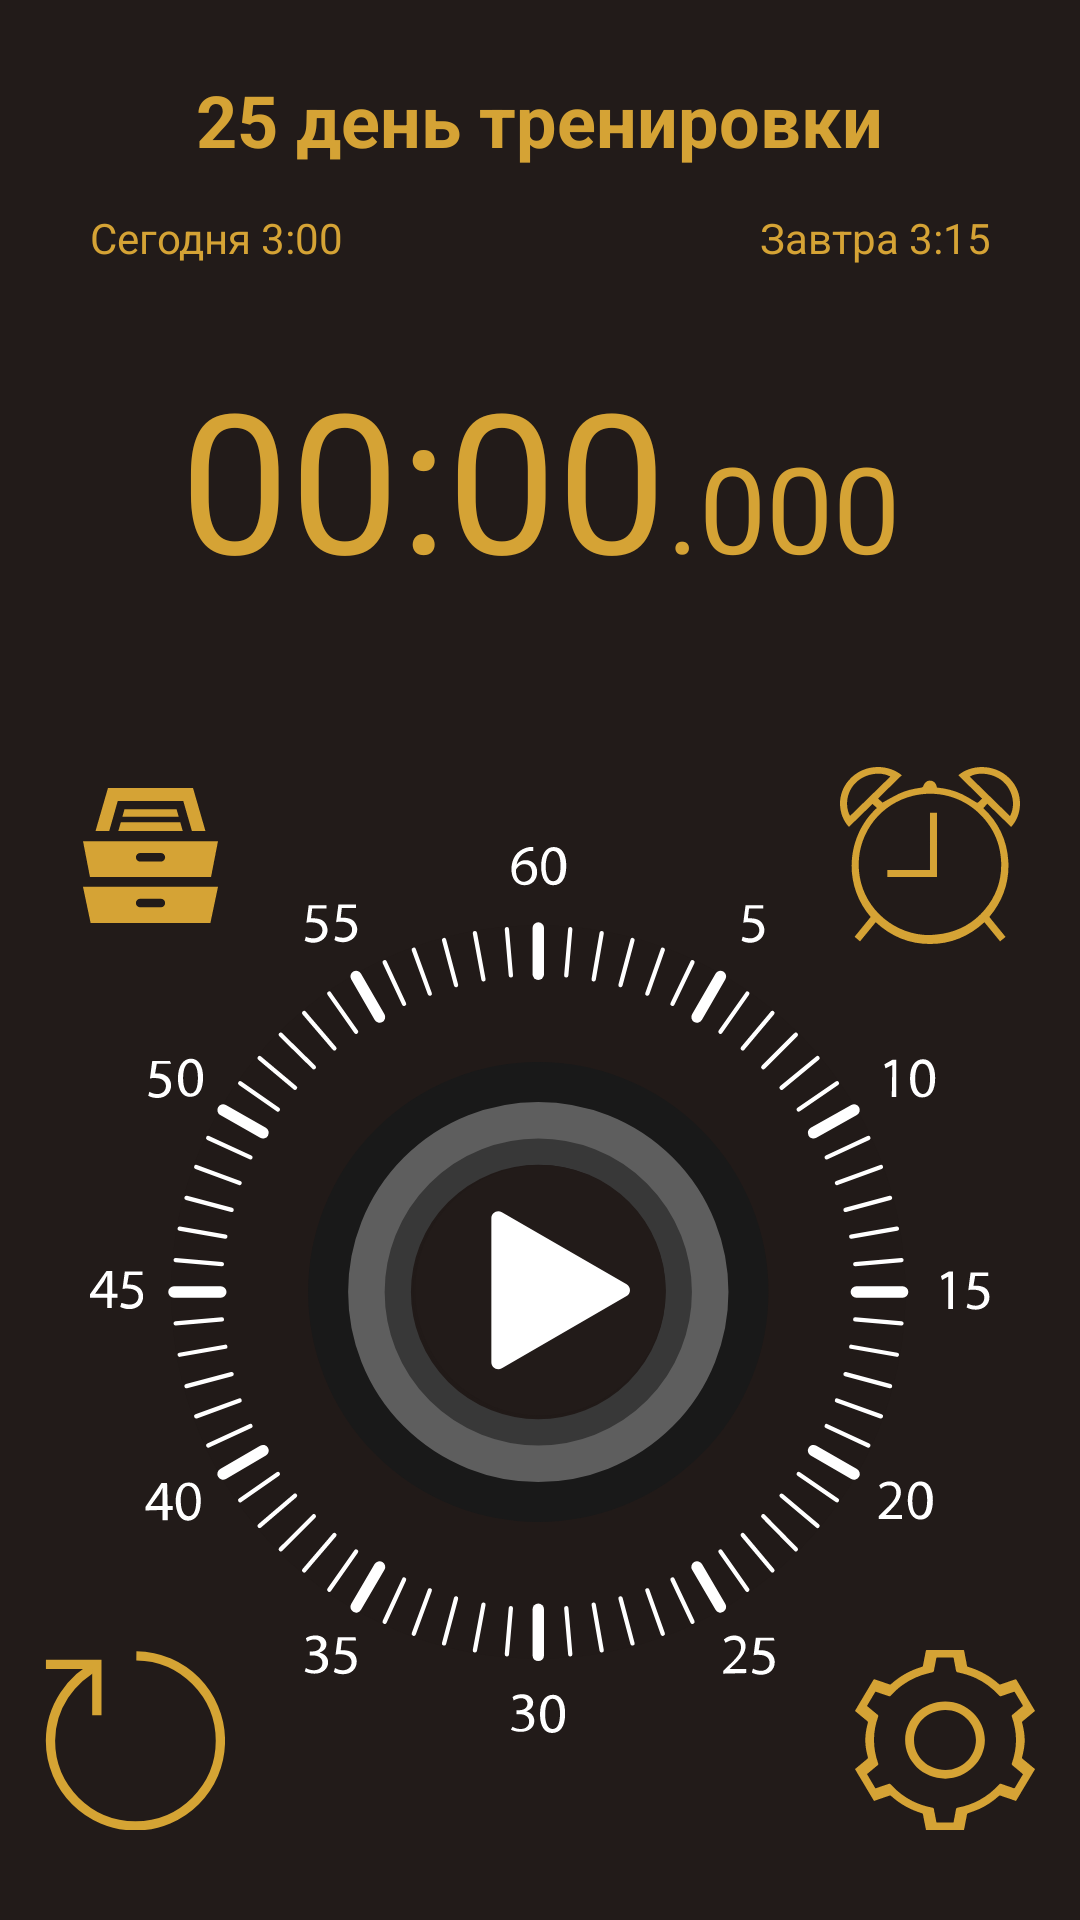

Locate icon controls on the screen. Image size 1080w x 1920h, boxes as (x1, y1, x2, y2).
alarm: (840, 767, 1020, 944)
archive: (83, 788, 218, 923)
resetbutton: (45, 1651, 225, 1830)
settings: (855, 1650, 1035, 1830)
